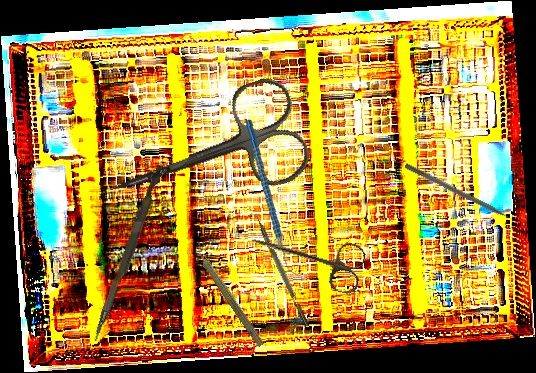Chopper: (234, 119, 311, 277), (247, 210, 310, 330)
Handpiece: (189, 241, 269, 349)
Iris Scissors: (92, 72, 316, 238), (244, 218, 368, 296)
Pusher: (91, 162, 166, 345), (403, 162, 524, 229)
